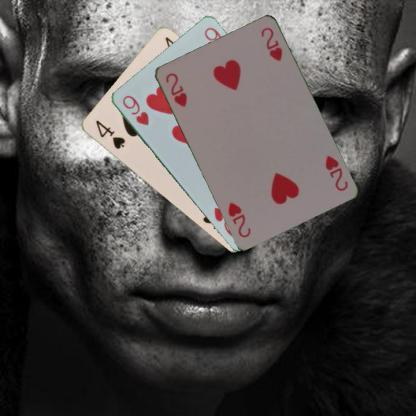2h: (322, 152, 349, 192), (162, 70, 188, 109)
4s: (92, 118, 126, 150)
9h: (120, 92, 150, 128)
